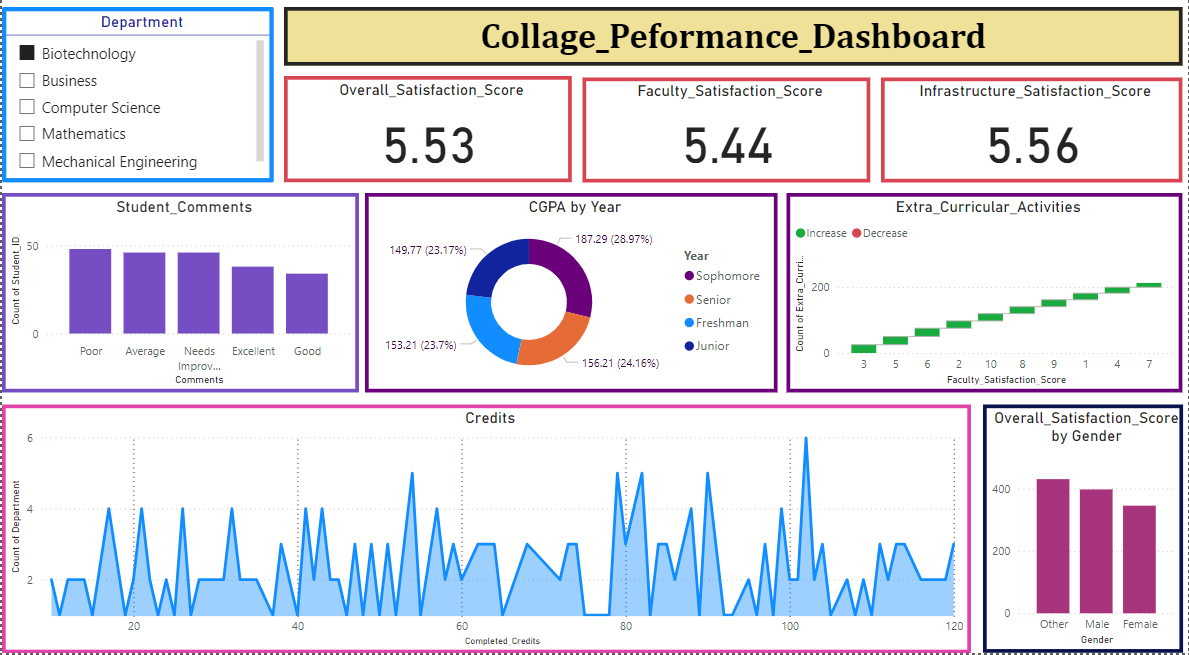

The page's visual inventory and layout, read from the dashboard file:
{"tool":"powerbi","page":{"name":"Page 1","canvas":[1280,720],"ordinal":0},"visuals":[{"type":"slicer","title":"Department","fields":{"Values":["college_performance_dashboard.Department"]},"box":[0,22.7,293.1,189.4],"z":0},{"type":"donutChart","title":"CGPA by Year ","fields":{"Series":["college_performance_dashboard.Year"],"Category":["college_performance_dashboard.Year"],"Y":["Sum(college_performance_dashboard.CGPA)"]},"box":[391.9,223.5,445.3,215.4],"z":1},{"type":"card","title":"Overall_Satisfaction_Score","fields":{"Values":["Avg(college_performance_dashboard.Overall_Satisfaction_Score)"]},"box":[304.4,97.2,310.9,115],"z":2},{"type":"card","title":"Infrastructure_Satisfaction_Score","fields":{"Values":["Avg(college_performance_dashboard.Infrastructure_Satisfaction_Score)"]},"box":[948.9,98.8,325.5,113.3],"z":3},{"type":"card","title":"Faculty_Satisfaction_Score","fields":{"Values":["Avg(college_performance_dashboard.Faculty_Satisfaction_Score)"]},"box":[626.6,98.8,310.9,113.3],"z":4},{"type":"lineStackedColumnComboChart","title":"Student_Comments","fields":{"Category":["college_performance_dashboard.Comments"],"Y":["CountNonNull(college_performance_dashboard.Student_ID)"]},"box":[0,223.5,385.4,215.4],"z":5},{"type":"stackedAreaChart","title":"Credits","fields":{"Category":["college_performance_dashboard.Completed_Credits"],"Y":["CountNonNull(college_performance_dashboard.Department)"]},"box":[0,451.8,1046,268.8],"z":6},{"type":"waterfallChart","title":"Extra_Curricular_Activities","fields":{"Category":["college_performance_dashboard.Faculty_Satisfaction_Score"],"Y":["CountNonNull(college_performance_dashboard.Extra_Curricular_Activities)"]},"box":[846.9,223.5,427.5,215.4],"z":7},{"type":"lineStackedColumnComboChart","title":"Overall_Satisfaction_Score by Gender","fields":{"Y":["Sum(college_performance_dashboard.Overall_Satisfaction_Score)"],"Category":["college_performance_dashboard.Gender"]},"box":[1060.6,451.8,213.7,268.8],"z":8},{"type":"textbox","box":[304.4,22.7,969.9,63.1],"z":9}]}

Visuals, with their boxes in screenshot pixels (x1, y1, x2, y2), scaled from the page's 1280x720 canvas onto the 1189x655 screenshot:
"Department" slicer: bbox=[0, 21, 272, 193]
"CGPA by Year " donutChart: bbox=[364, 203, 778, 399]
"Overall_Satisfaction_Score" card: bbox=[283, 88, 572, 193]
"Infrastructure_Satisfaction_Score" card: bbox=[881, 90, 1184, 193]
"Faculty_Satisfaction_Score" card: bbox=[582, 90, 871, 193]
"Student_Comments" lineStackedColumnComboChart: bbox=[0, 203, 358, 399]
"Credits" stackedAreaChart: bbox=[0, 411, 972, 654]
"Extra_Curricular_Activities" waterfallChart: bbox=[787, 203, 1184, 399]
"Overall_Satisfaction_Score by Gender" lineStackedColumnComboChart: bbox=[985, 411, 1184, 654]
textbox: bbox=[283, 21, 1184, 78]
